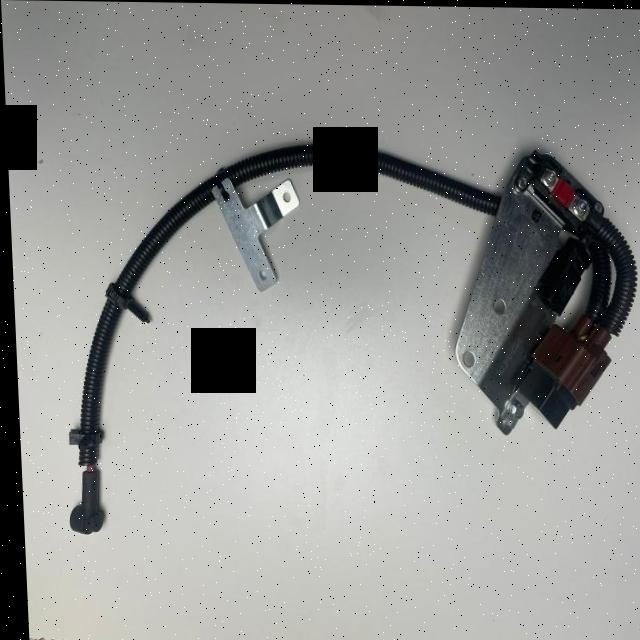cable: (0, 43, 503, 542)
